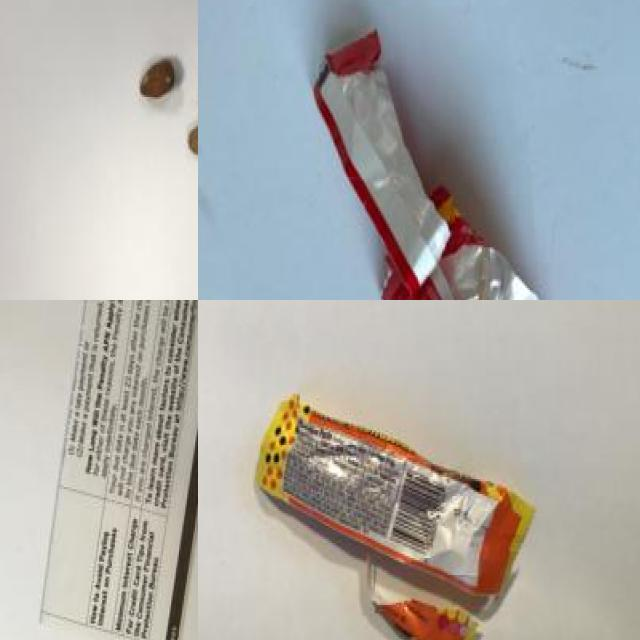compost: (125, 0, 198, 213)
paper: (25, 300, 198, 640)
trash: (290, 9, 592, 300), (248, 362, 548, 640)
